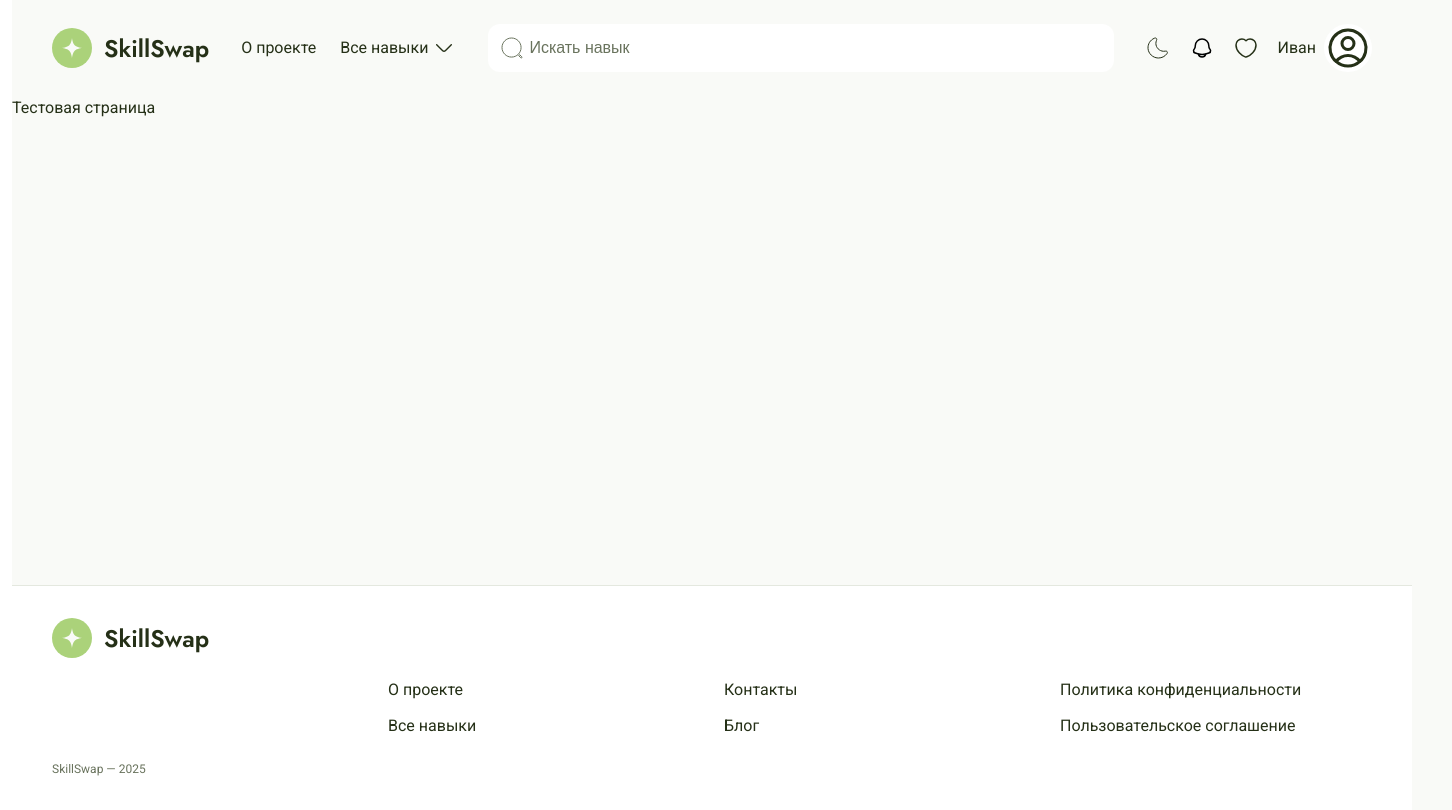
Test: MainLayout › выходит из аккаунта при клике "Выйти из аккаунта", очищает стейт и переходит на главную
Открываем меню профиля кликом по кнопке профиля
What coordinates should you click on to do the following:
click the button "Иван"
I would click on:
 (1325, 48)
Its box is [1278, 24, 1372, 72].
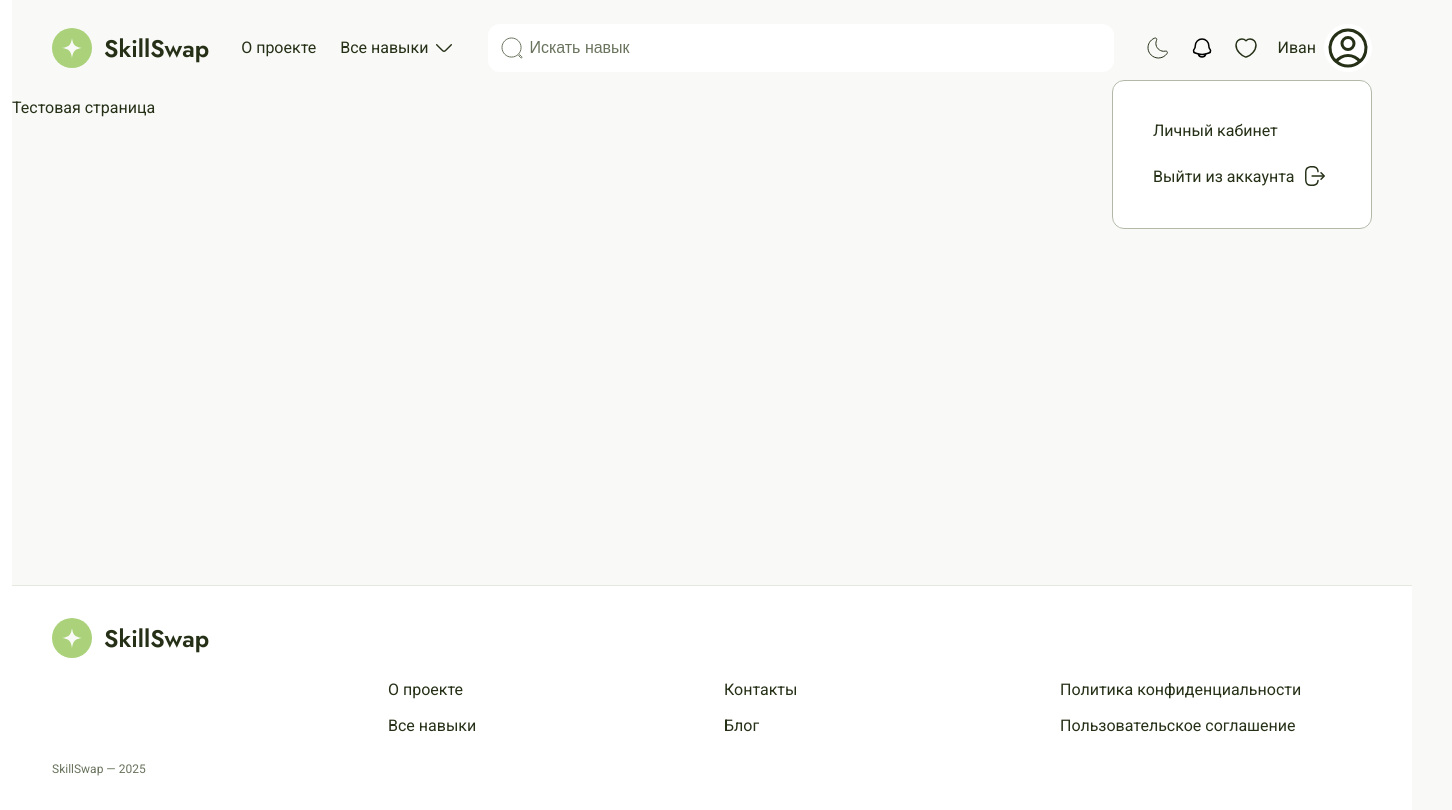
What coordinates should you click on to do the following:
click the button "Выйти из аккаунта"
I would click on:
 (1242, 176)
Its box is [1153, 164, 1331, 188].
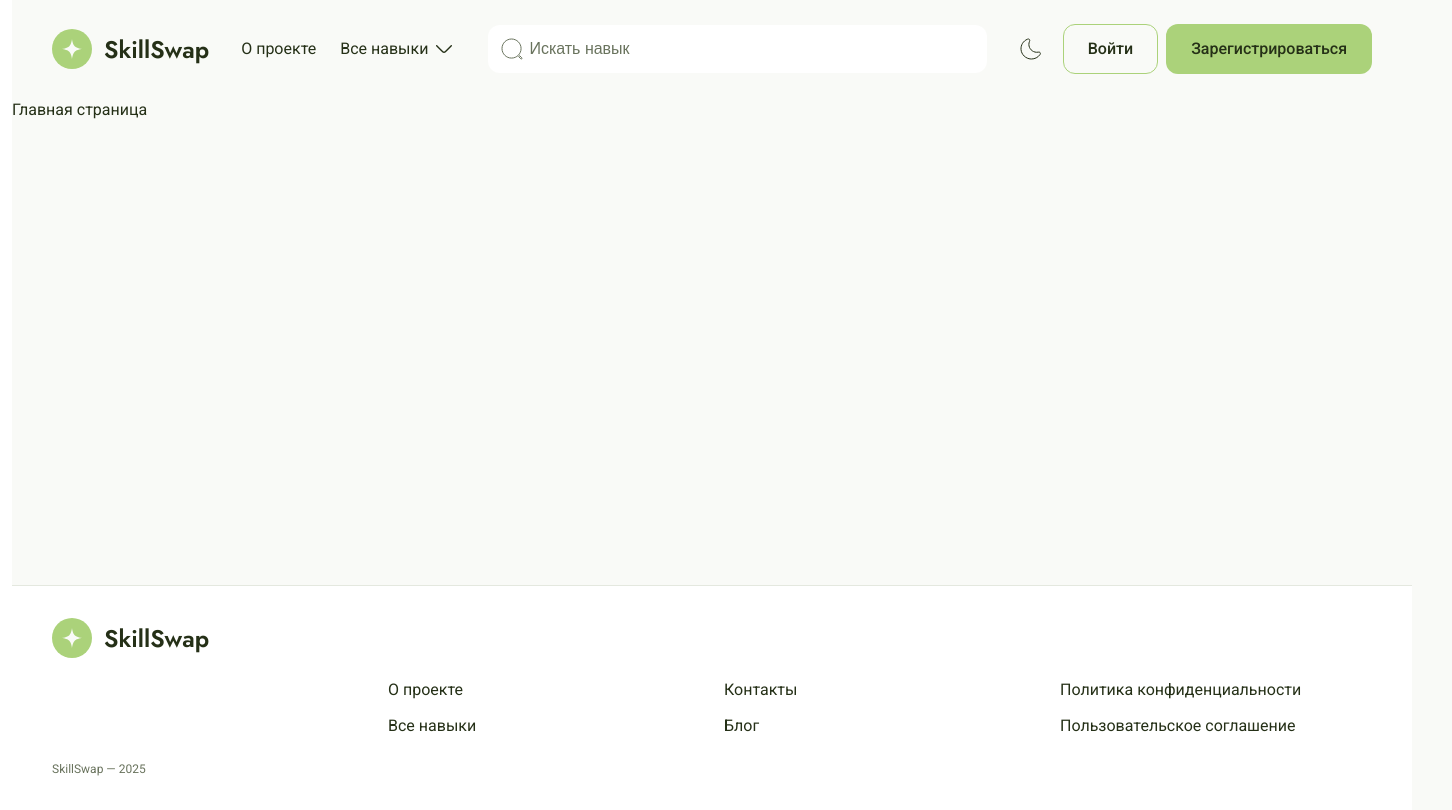
Check: the button "Войти" is shown, box [1063, 24, 1158, 74]
Check: the button "Зарегистрироваться" is shown, box [1166, 24, 1372, 74]
